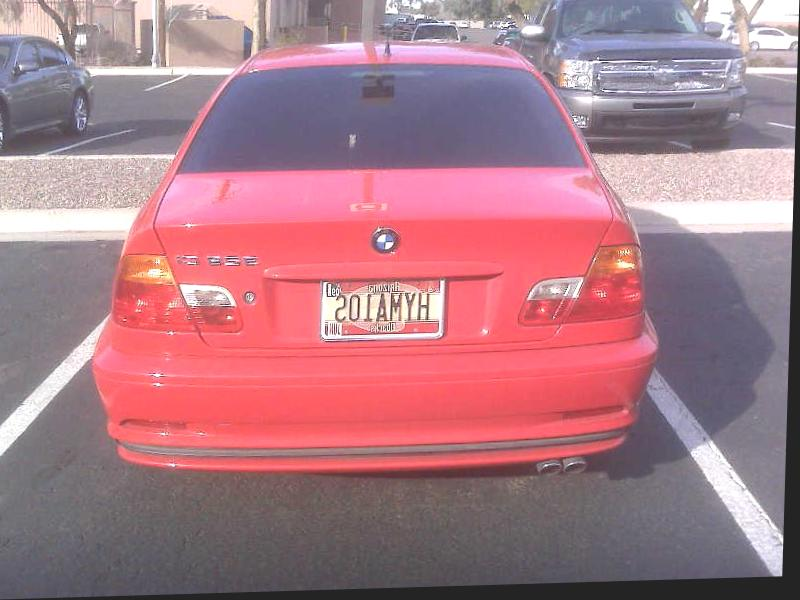License_Plate: (318, 273, 447, 345)
